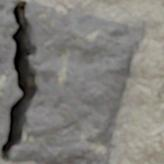broken_brick: (8, 2, 134, 163), (0, 0, 20, 144)
crack: (0, 1, 39, 162), (59, 15, 65, 21)
